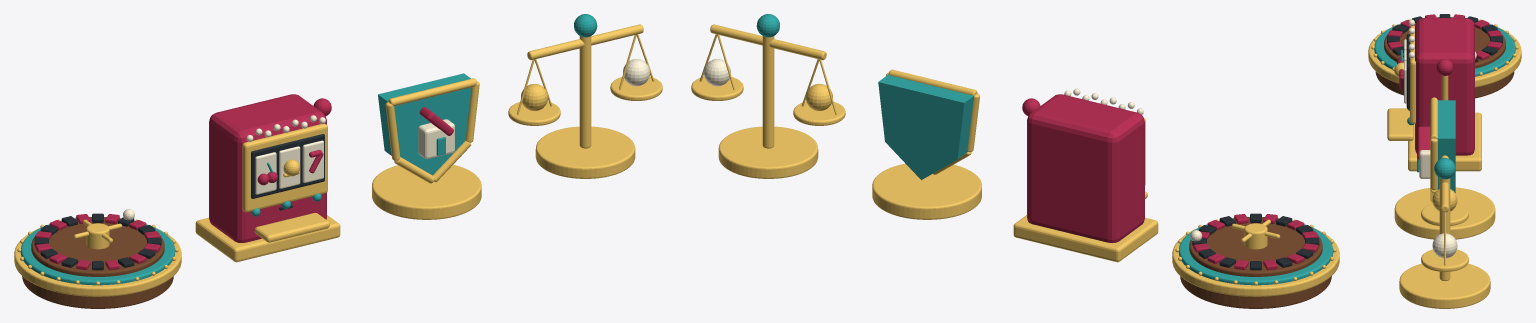
Rendered from fortune.glb.
3 views of the same model, side by side, from view 1: azimuth 30°, elevation 25°; view 2: azimuth 150°, elevation 25°; view 3: azimuth 270°, elevation 25° (orthographic). The views are drawn at different scales.
Parts seen in each view (by area): view 1: Enamel body, Token base, Protective shield, Balance foot, Wheel bowl, Chrome bezel, Golden rim, Foot, Felt bed, Pedestal, Pillar, Coin tray (+15 smaller); view 2: Enamel body, Protective shield, Token base, Balance foot, Wheel bowl, Foot, Golden rim, Felt bed, Pedestal, Pillar, Balance arm, Balance pan (+6 smaller); view 3: Enamel body, Balance foot, Token base, Protective shield, Golden rim, Foot, Felt bed, Coin tray, Wheel bowl, Balance pan.001, Pedestal, Balance pan (+14 smaller).
Part boxes in pixels (left/top/right/bottom): Enamel body: left=209, top=94, right=326, bottom=242; Token base: left=372, top=164, right=481, bottom=219; Protective shield: left=378, top=73, right=471, bottom=175; Balance foot: left=535, top=126, right=635, bottom=178; Wheel bowl: left=31, top=217, right=164, bottom=276; Chrome bezel: left=242, top=123, right=327, bottom=212; Golden rim: left=14, top=228, right=181, bottom=296; Foot: left=195, top=215, right=340, bottom=262; Felt bed: left=20, top=221, right=174, bottom=285; Pedestal: left=22, top=276, right=173, bottom=308; Pillar: left=579, top=36, right=591, bottom=148; Coin tray: left=254, top=213, right=329, bottom=242; Enamel body: left=1027, top=94, right=1144, bottom=242; Protective shield: left=878, top=74, right=974, bottom=180; Token base: left=872, top=163, right=981, bottom=219; Balance foot: left=718, top=126, right=818, bottom=178; Wheel bowl: left=1189, top=217, right=1322, bottom=276; Foot: left=1013, top=215, right=1158, bottom=262; Golden rim: left=1172, top=228, right=1339, bottom=296; Felt bed: left=1179, top=221, right=1333, bottom=285; Pedestal: left=1180, top=276, right=1331, bottom=308; Pillar: left=762, top=36, right=774, bottom=148; Balance arm: left=710, top=24, right=826, bottom=60; Balance pan: left=793, top=101, right=845, bottom=125; Enamel body: left=1415, top=18, right=1474, bottom=155; Balance foot: left=1399, top=263, right=1490, bottom=308; Token base: left=1394, top=187, right=1495, bottom=239; Protective shield: left=1436, top=100, right=1455, bottom=192; Golden rim: left=1368, top=27, right=1521, bottom=87; Foot: left=1408, top=112, right=1481, bottom=171; Felt bed: left=1374, top=20, right=1515, bottom=76; Coin tray: left=1387, top=108, right=1413, bottom=140; Wheel bowl: left=1384, top=17, right=1505, bottom=68; Balance pan.001: left=1421, top=249, right=1468, bottom=271; Pedestal: left=1375, top=71, right=1514, bottom=98; Balance pan: left=1421, top=204, right=1468, bottom=225.
Size of the model in its own units: 5.59 by 1.21 by 1.28.
